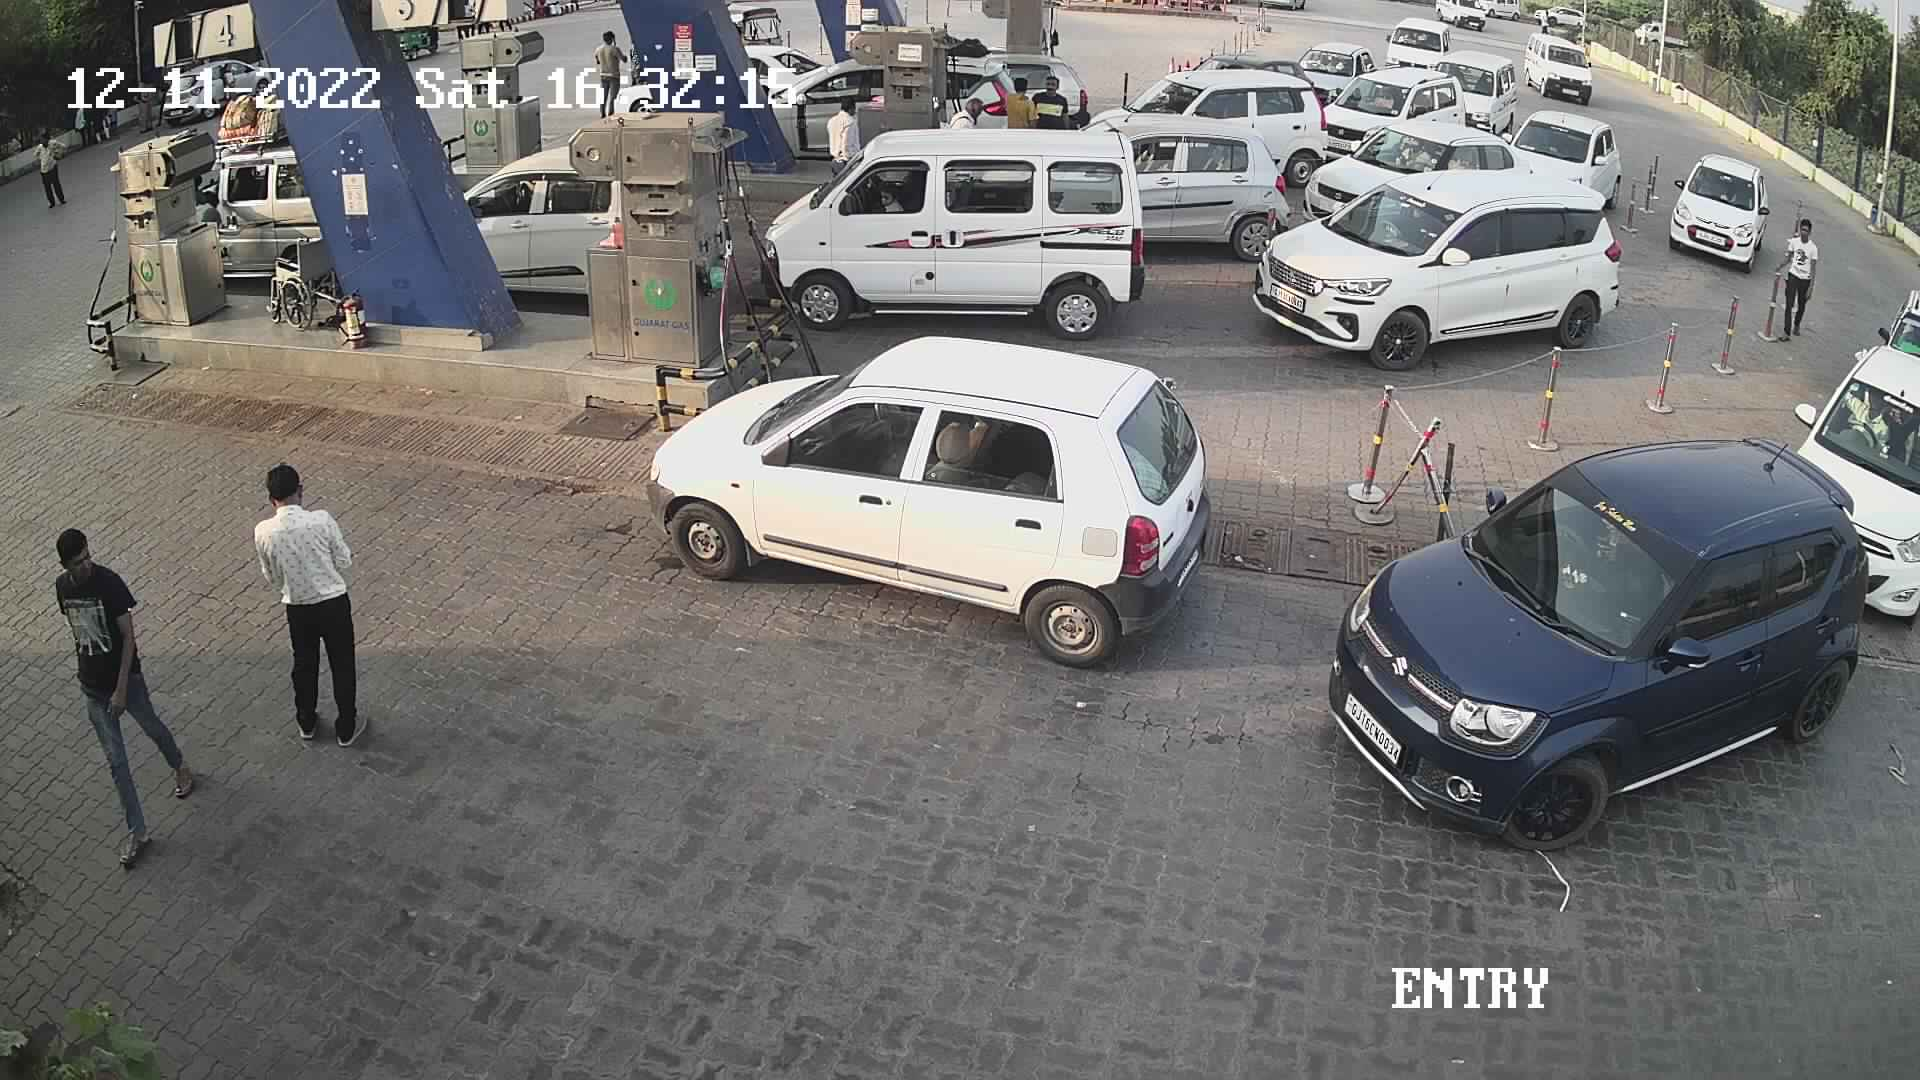Car: (1307, 433, 1892, 833), (638, 332, 1220, 673), (758, 125, 1154, 339), (1247, 165, 1633, 368), (390, 124, 709, 318), (1762, 328, 1920, 638), (1084, 51, 1344, 224), (1048, 94, 1304, 265), (162, 107, 381, 295), (1302, 105, 1539, 241), (1299, 54, 1486, 171), (1480, 95, 1634, 229), (1655, 141, 1783, 280), (943, 44, 1068, 138), (152, 44, 272, 137), (1414, 40, 1524, 138), (1509, 9, 1607, 103), (593, 53, 679, 125), (1375, 7, 1456, 78)
